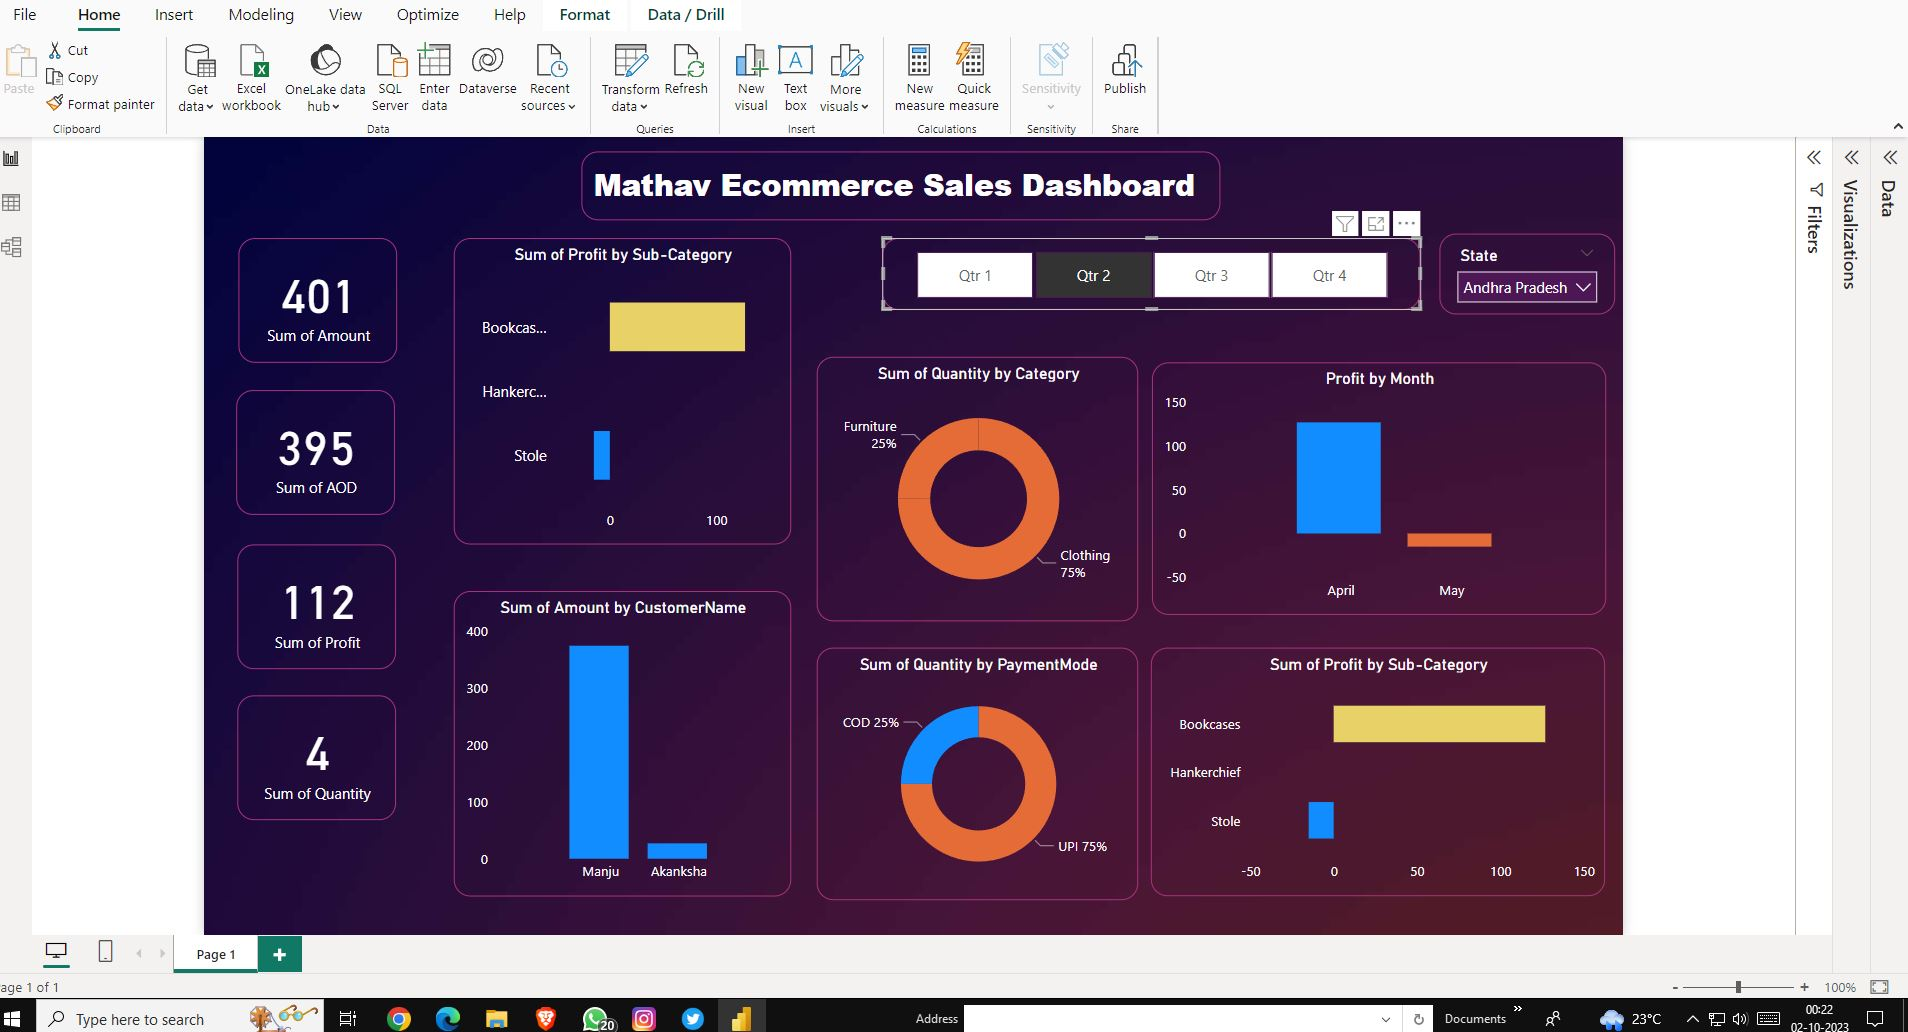

What the dashboard file says about the page in this screenshot:
{"tool":"powerbi","page":{"name":"Page 1","canvas":[1280,720],"ordinal":0},"visuals":[{"type":"columnChart","title":"Profit by Month","fields":{"Y":["Details.Profit"],"Category":["Orders.Order Date.Variation.Date Hierarchy.Month"]},"box":[855.7,203.1,409.7,228.1],"z":0},{"type":"barChart","fields":{"Category":["Details.Sub-Category"],"Y":["Details.Profit"]},"box":[854.5,460.7,409.7,224.7],"z":1000},{"type":"donutChart","fields":{"Category":["Details.Category"],"Y":["Details.Quantity"]},"box":[552.7,198.6,290.5,238.3],"z":2000},{"type":"donutChart","fields":{"Y":["Details.Quantity"],"Category":["Details.PaymentMode"]},"box":[552.7,460.7,290.5,228.1],"z":3000},{"type":"card","fields":{"Values":["Details.Amount"]},"box":[31,91.1,143.2,112.2],"z":4000},{"type":"card","fields":{"Values":["Details.AOD"]},"box":[29,228.4,143.2,112.2],"z":5000},{"type":"card","fields":{"Values":["Details.Quantity"]},"box":[30,503.8,143.2,112.2],"z":6000},{"type":"card","fields":{"Values":["Details.Profit"]},"box":[30,367.6,143.2,112.2],"z":7000},{"type":"barChart","fields":{"Category":["Details.Sub-Category"],"Y":["Details.Profit"]},"box":[225.8,90.8,304.1,276.9],"z":8000},{"type":"columnChart","fields":{"Category":["Orders.CustomerName"],"Y":["Details.Amount"]},"box":[225.8,409.7,304.1,275.8],"z":9000},{"type":"textbox","box":[340.5,13,576.9,62.1],"z":10000},{"type":"slicer","fields":{"Values":["Orders.Order Date.Variation.Date Hierarchy.Quarter"]},"box":[611.9,91.1,485.7,65.1],"z":11000},{"type":"slicer","fields":{"Values":["Orders.State"]},"box":[1114.7,87.1,158.2,73.1],"z":12000}]}

Visuals, with their boxes in screenshot pixels (x1, y1, x2, y2):
"Profit by Month" columnChart: {"x1": 1059, "y1": 342, "x2": 1618, "y2": 653}
barChart - Details.Sub-Category x Details.Profit: {"x1": 1057, "y1": 694, "x2": 1617, "y2": 1000}
donutChart - Details.Category x Details.Quantity: {"x1": 645, "y1": 336, "x2": 1042, "y2": 661}
donutChart - Details.Quantity x Details.PaymentMode: {"x1": 645, "y1": 694, "x2": 1042, "y2": 1005}
card - Details.Amount: {"x1": 0, "y1": 189, "x2": 129, "y2": 342}
card - Details.AOD: {"x1": 0, "y1": 376, "x2": 126, "y2": 530}
card - Details.Quantity: {"x1": 0, "y1": 752, "x2": 127, "y2": 906}
card - Details.Profit: {"x1": 0, "y1": 567, "x2": 127, "y2": 720}
barChart - Details.Sub-Category x Details.Profit: {"x1": 199, "y1": 189, "x2": 614, "y2": 567}
columnChart - Orders.CustomerName x Details.Amount: {"x1": 199, "y1": 624, "x2": 614, "y2": 1001}
textbox: {"x1": 356, "y1": 82, "x2": 1143, "y2": 167}
slicer - Orders.Order Date.Variation.Date Hierarchy.Quarter: {"x1": 726, "y1": 189, "x2": 1389, "y2": 278}
slicer - Orders.State: {"x1": 1413, "y1": 184, "x2": 1629, "y2": 283}
